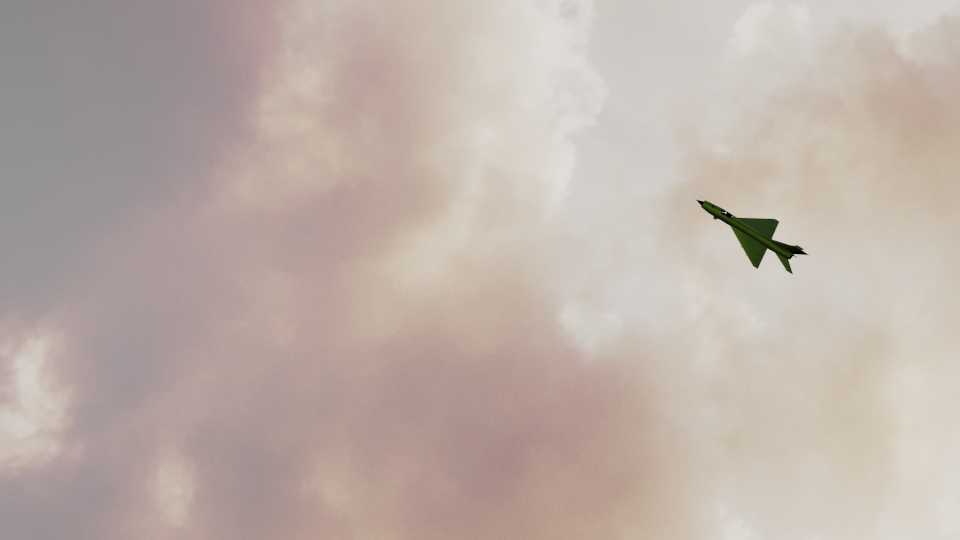plane: (695, 196, 807, 270)
